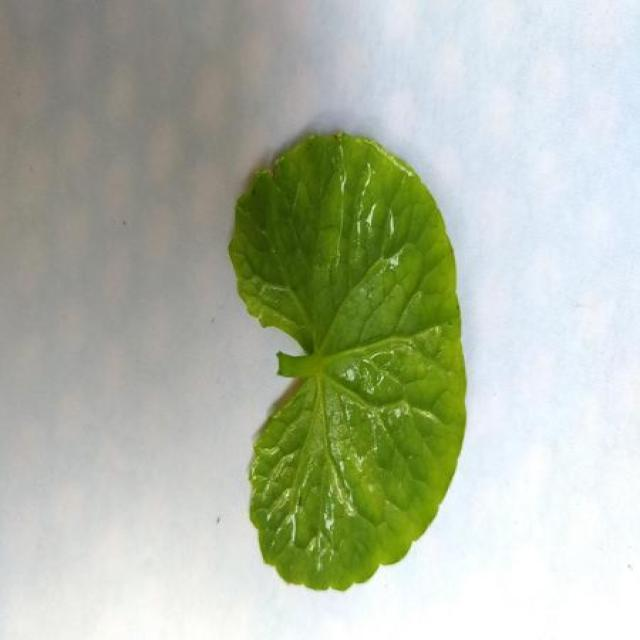defectedbhrami: (230, 132, 465, 590)
